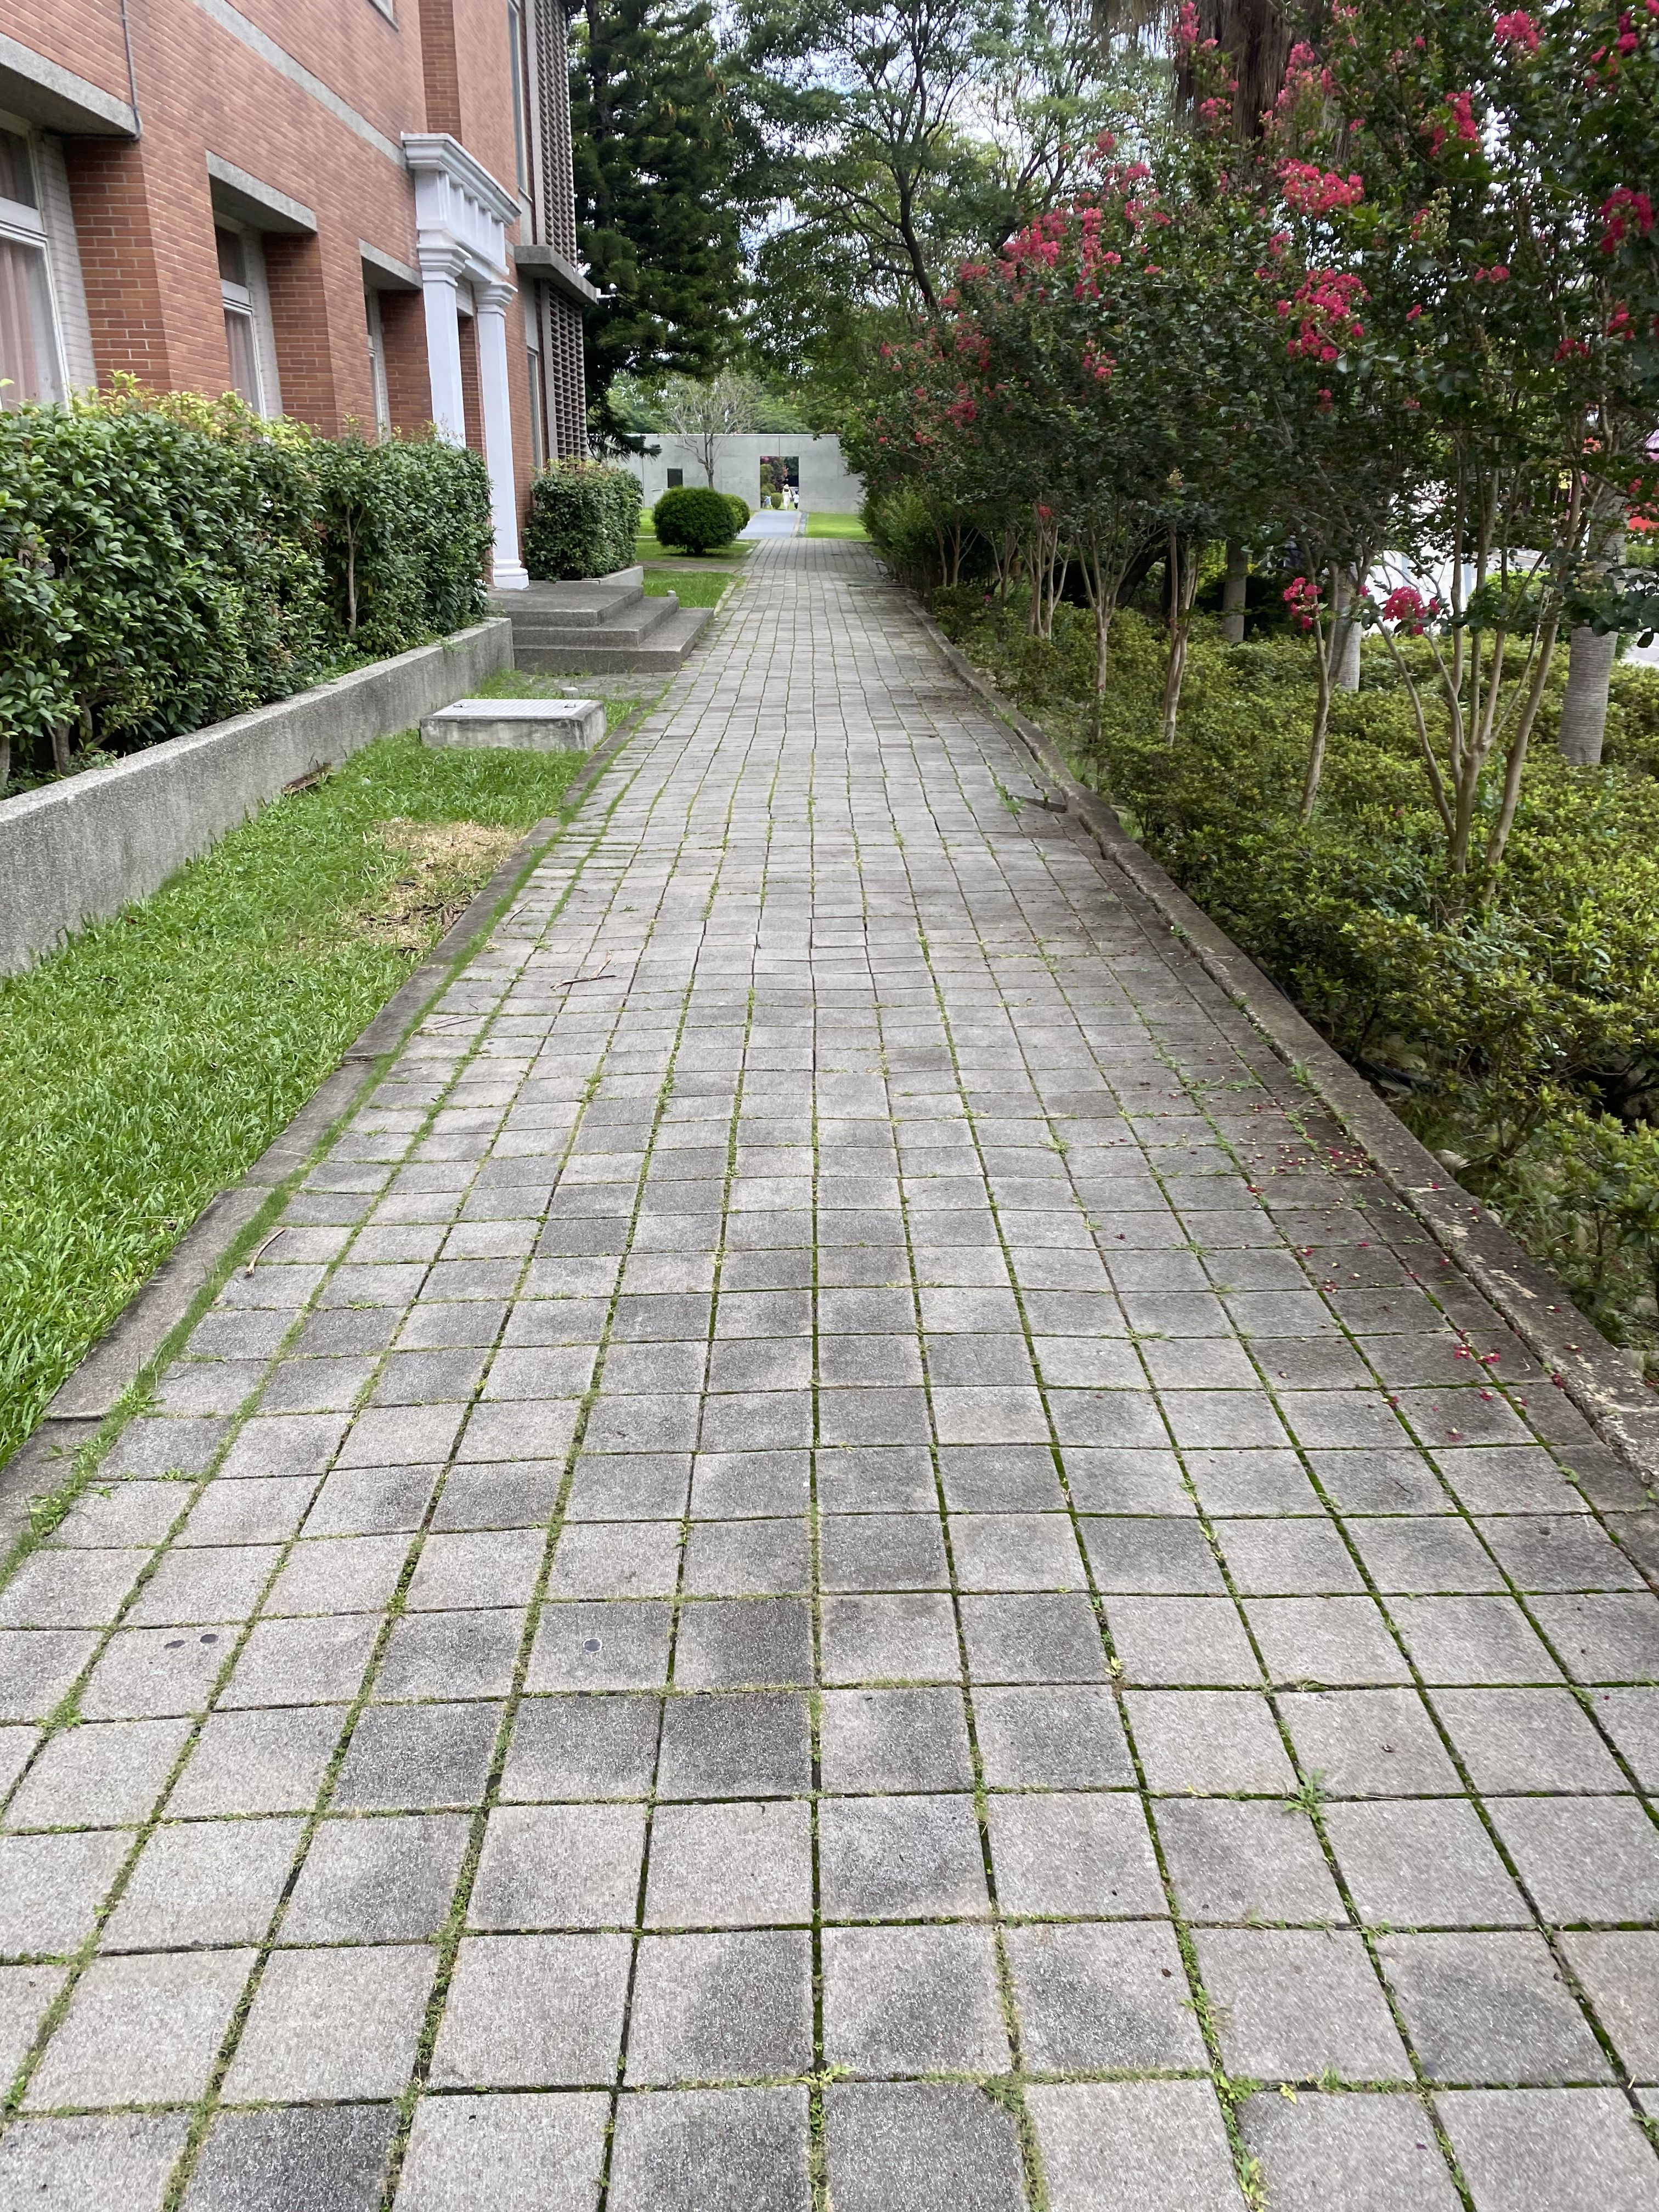0: (12, 737, 751, 2210)
sidewalk: (666, 502, 1659, 2207)
